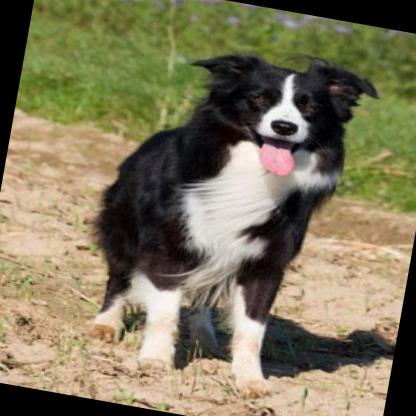Border_collie: (58, 23, 386, 412)
